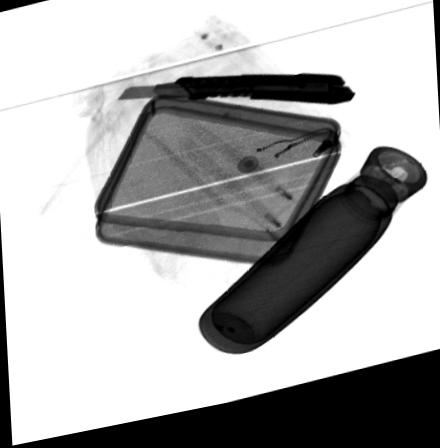Knife: (113, 83, 356, 119)
